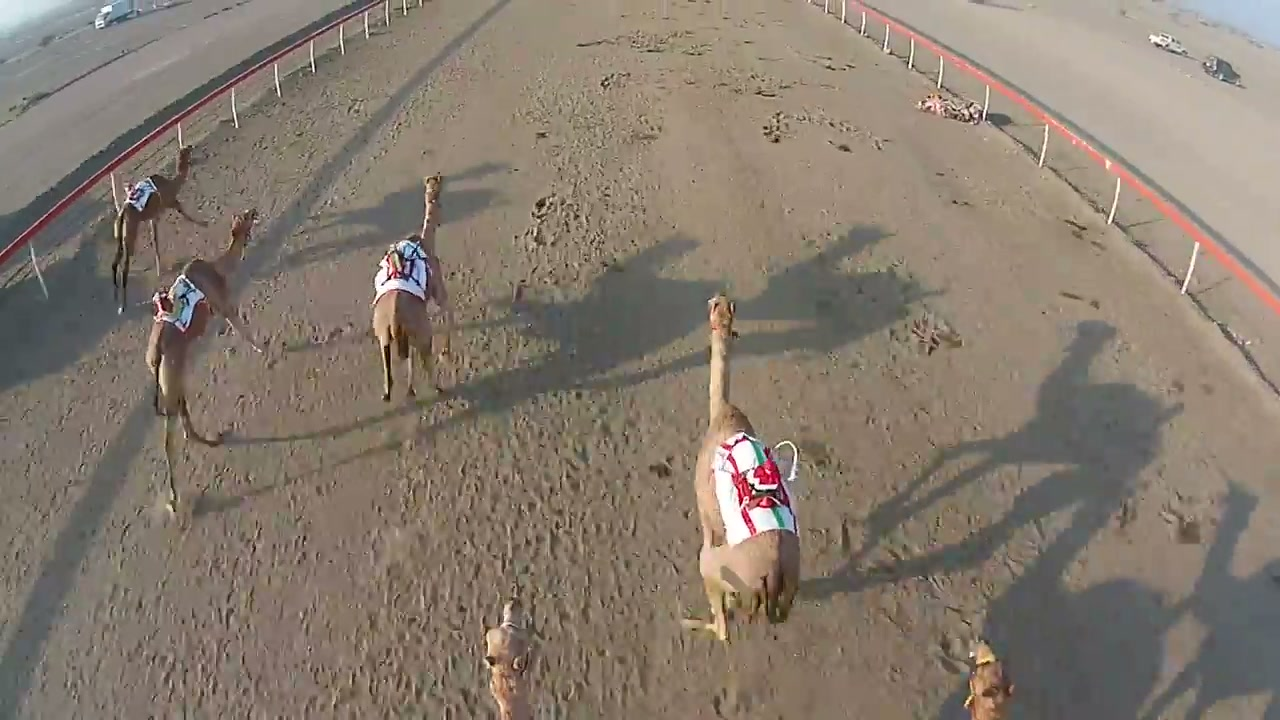animal_foot_print: (86, 449, 237, 715), (373, 397, 446, 695), (497, 418, 586, 638)
